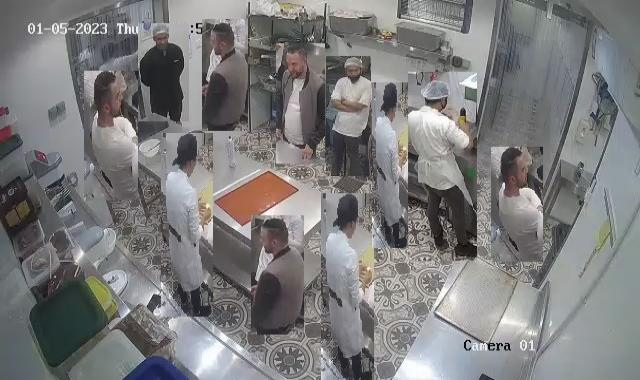hairnet: (423, 78, 452, 108), (342, 54, 364, 76), (152, 21, 171, 43)
no_hairnet: (92, 72, 118, 117), (500, 147, 524, 192), (175, 134, 201, 174), (260, 217, 287, 254), (338, 193, 360, 235), (209, 19, 233, 54), (284, 43, 310, 72), (382, 86, 402, 119)
